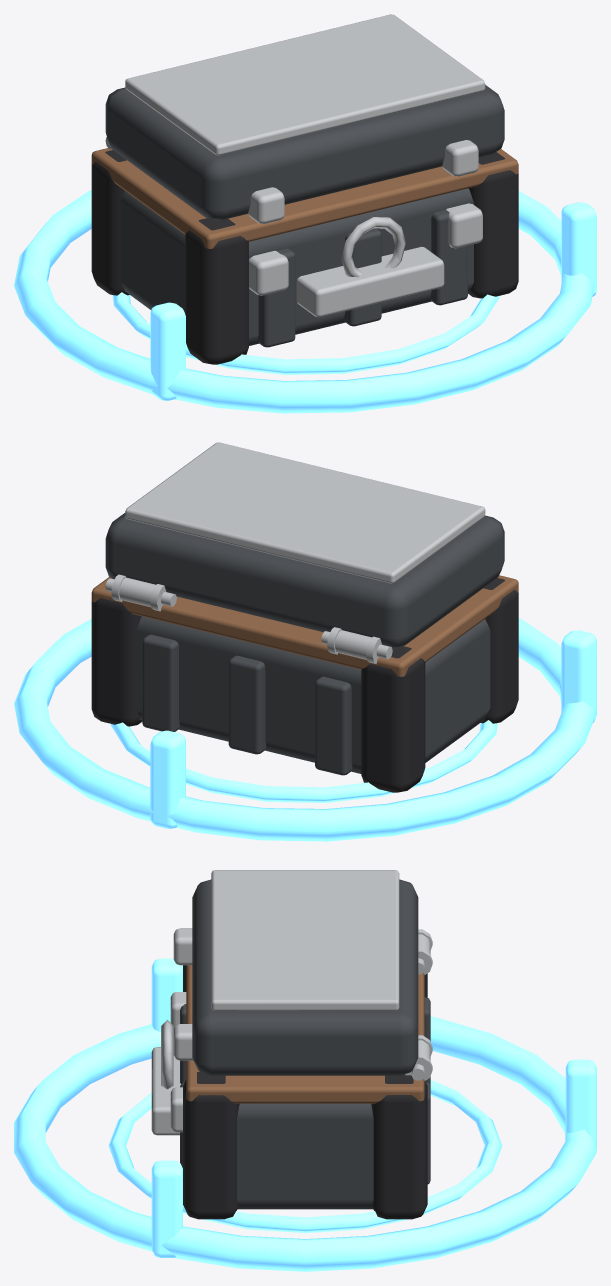
File: fps-survival-forest-outpost-loot-cache-rare-fb7d48a6__32660.glb
The picture shows the model from 3 angles, top to bottom: view 1: azimuth 30°, elevation 25°; view 2: azimuth 150°, elevation 25°; view 3: azimuth 270°, elevation 25°; orthographic projection.
Visible parts, largest first — view 1: loot-cache-rare, lid/steel, lid/gunmetal; view 2: loot-cache-rare, lid/steel, lid/gunmetal; view 3: loot-cache-rare, lid/steel, lid/gunmetal.
Boxes of the visible parts, x1=… form: loot-cache-rare: x1=14, y1=137, x2=596, y2=413; lid/steel: x1=125, y1=14, x2=485, y2=223; lid/gunmetal: x1=105, y1=85, x2=504, y2=219; loot-cache-rare: x1=14, y1=574, x2=596, y2=841; lid/steel: x1=125, y1=442, x2=485, y2=583; lid/gunmetal: x1=105, y1=513, x2=504, y2=647; loot-cache-rare: x1=14, y1=929, x2=596, y2=1271; lid/steel: x1=173, y1=870, x2=399, y2=1060; lid/gunmetal: x1=192, y1=879, x2=418, y2=1075.
Size of the model in its own units: 0.936 by 0.385 by 0.9296.
